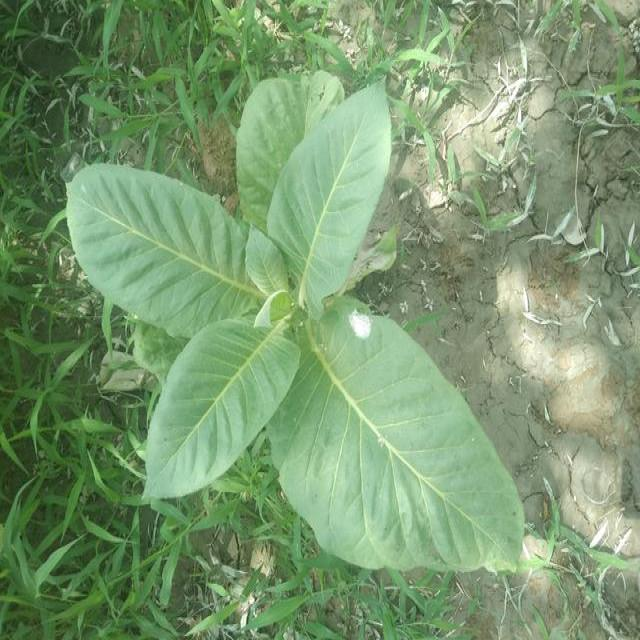crop: (65, 86, 537, 523)
